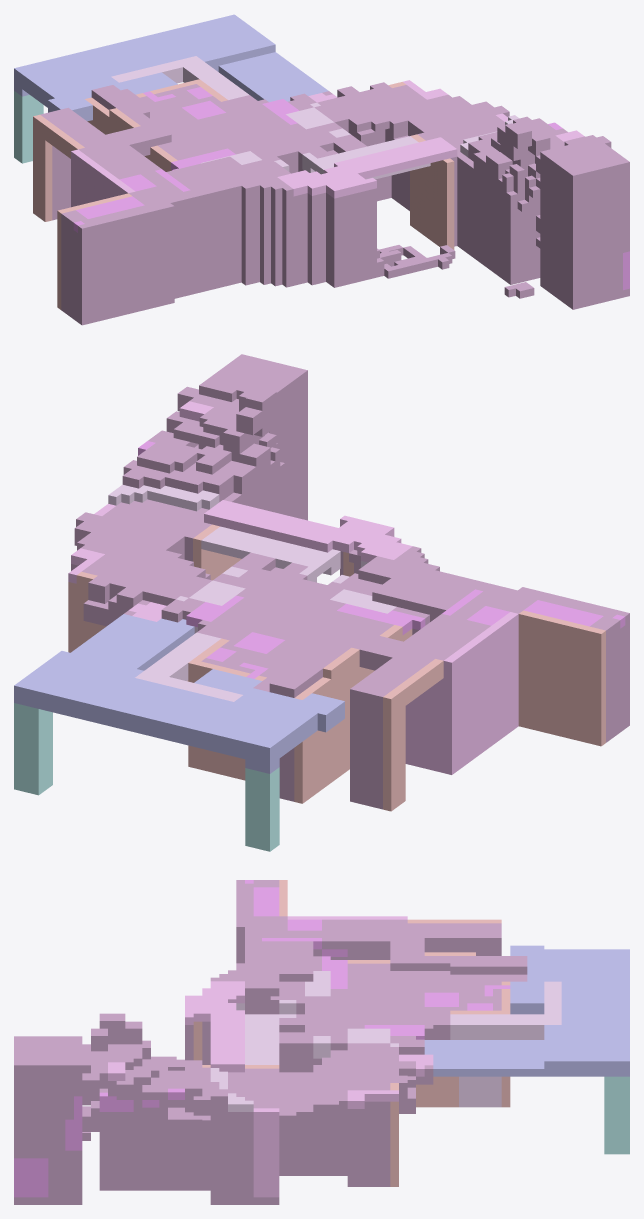
File: level.obj
The picture shows the model from 3 angles, top to bottom: view 1: azimuth 30°, elevation 25°; view 2: azimuth 150°, elevation 25°; view 3: azimuth 270°, elevation 25°; orthographic projection. The views are drawn at different scales.
Bounding box in the file's own units: 64 × 20 × 72.
1 material, 1 textured.
